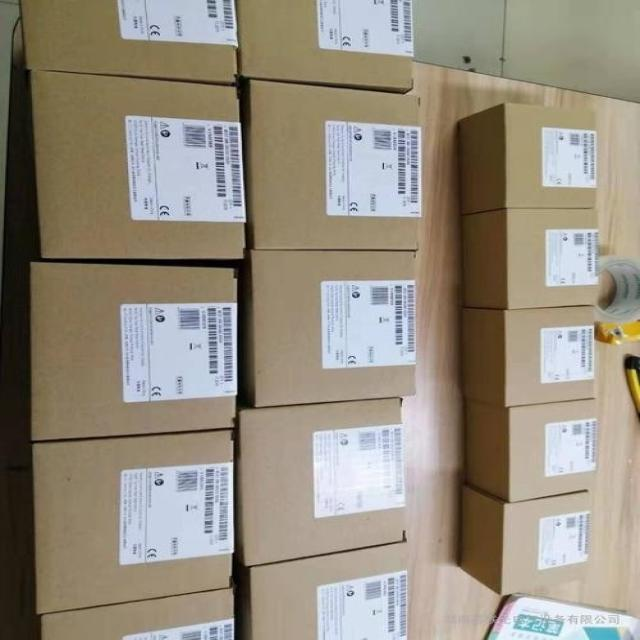box: (11, 70, 242, 261), (29, 261, 238, 439), (30, 429, 231, 614), (242, 78, 422, 251), (235, 252, 416, 408), (242, 397, 406, 566), (20, 2, 236, 83), (236, 0, 414, 93), (449, 105, 593, 215), (241, 542, 406, 638), (458, 480, 589, 596), (460, 397, 596, 502), (461, 207, 595, 311), (458, 305, 594, 406), (41, 587, 236, 637)
